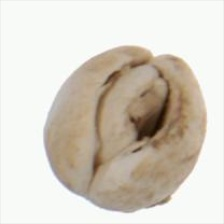L3: (93, 52, 178, 169)
L4: (43, 45, 207, 214)
